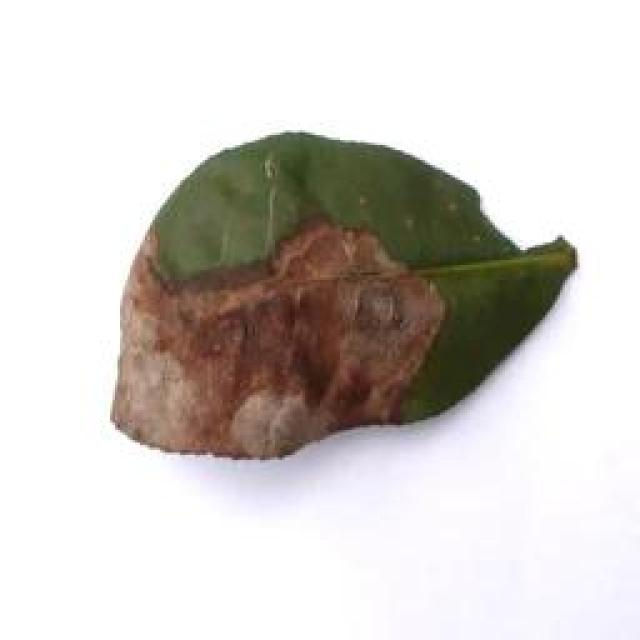Brown Blight: (89, 116, 606, 472)
